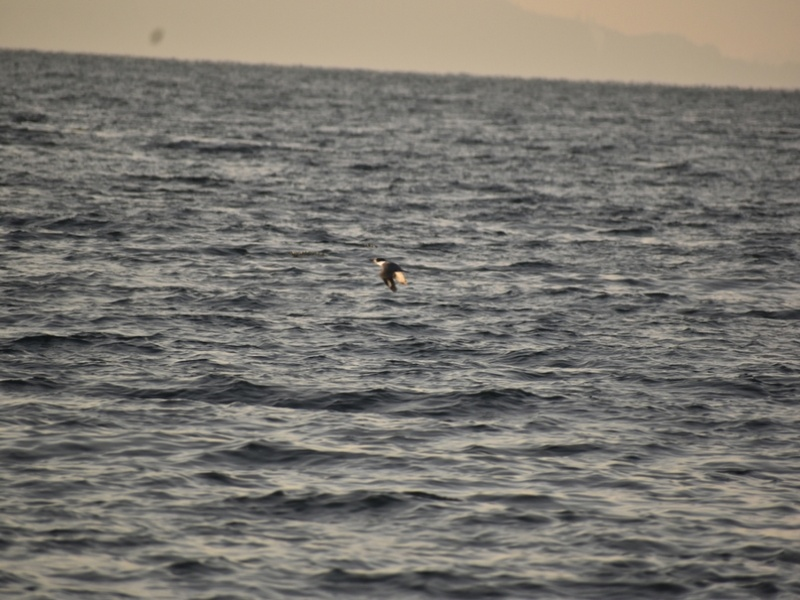kingfisher: (364, 254, 408, 294)
